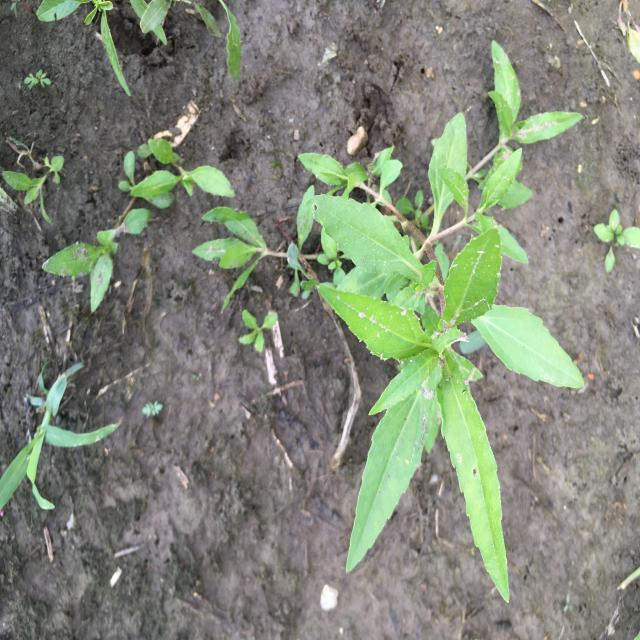Eclipta: (190, 37, 588, 607), (40, 134, 236, 316)
